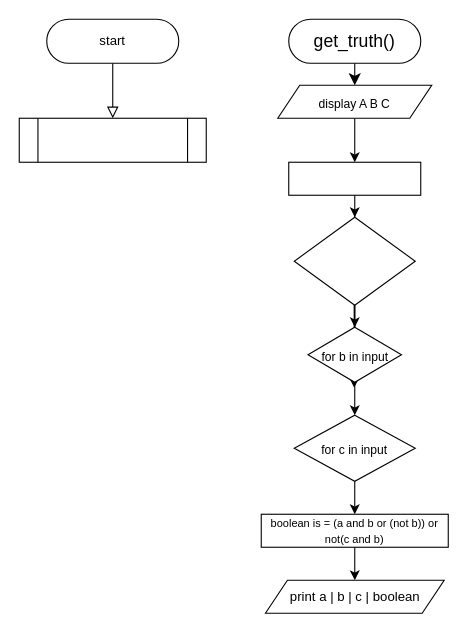
Image size: 468x633. Some labels were removed from this diagram. The shapes that lost their labels are listed below. From the top down, each one's box as (x1, y1, x2, y2) in pixels, then its label:
(18, 117, 206, 162): output is get_truthr()
(288, 161, 421, 195): input 0,1
(293, 216, 415, 305): for a in input
